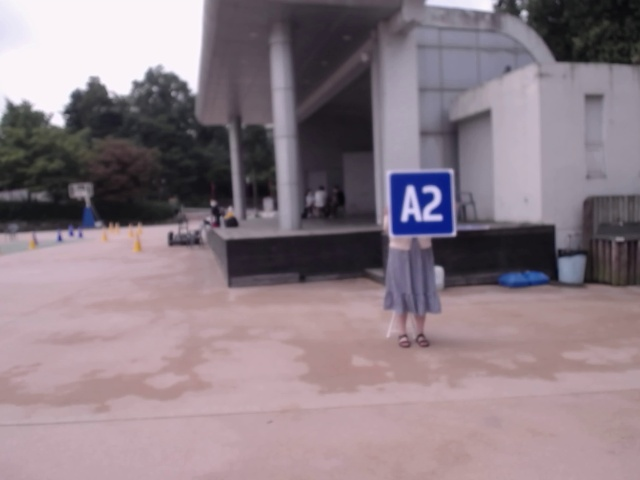delivery_a2: (388, 171, 455, 237)
